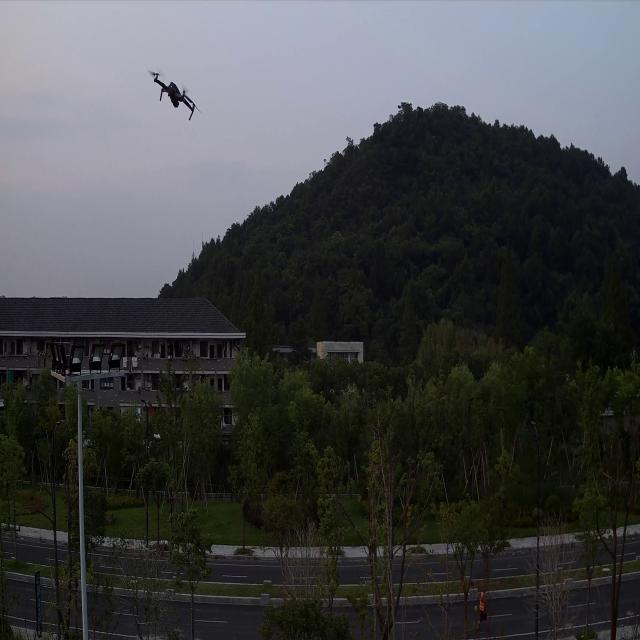UAV: (146, 64, 202, 123)
